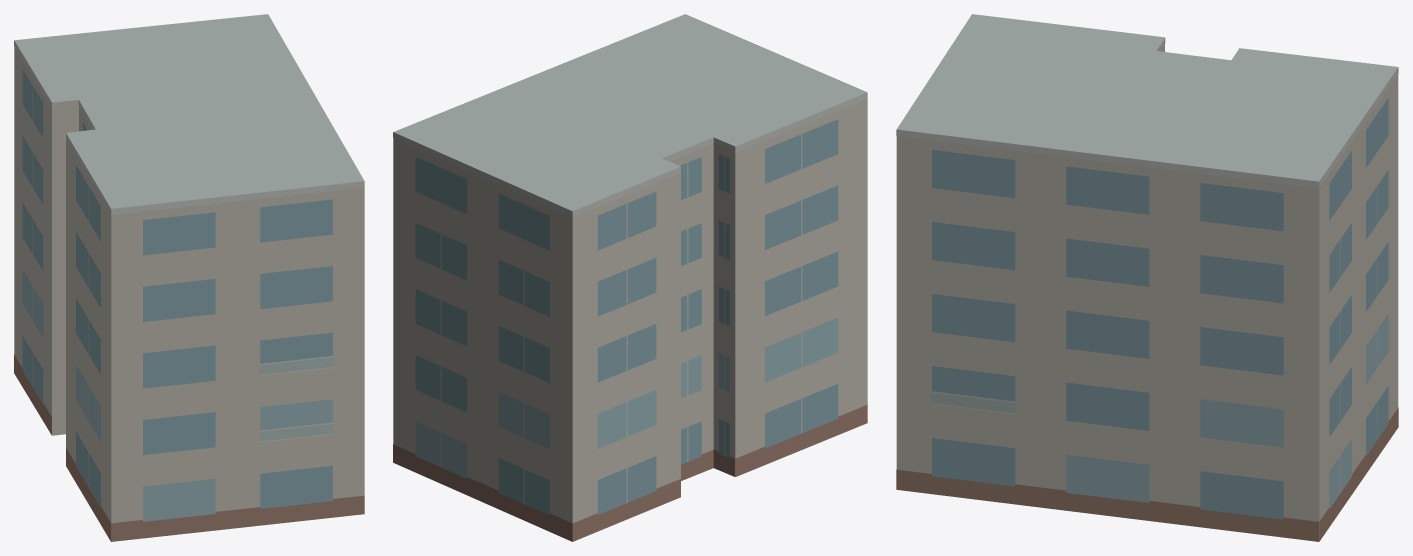
The model's file is survey-upis-32875056.glb.
3 views of the same model, side by side, from view 1: azimuth 30°, elevation 25°; view 2: azimuth 150°, elevation 25°; view 3: azimuth 270°, elevation 25° (orthographic). The views are drawn at different scales.
Visible parts, largest first — view 1: survey-upis-32875056.tmp; view 2: survey-upis-32875056.tmp; view 3: survey-upis-32875056.tmp.
Part boxes in pixels (<box>): survey-upis-32875056.tmp: <box>14,14,364,541</box>; survey-upis-32875056.tmp: <box>393,14,867,541</box>; survey-upis-32875056.tmp: <box>896,14,1398,541</box>.
Bounding box in the file's own units: 13.18 × 13.2 × 16.68.
